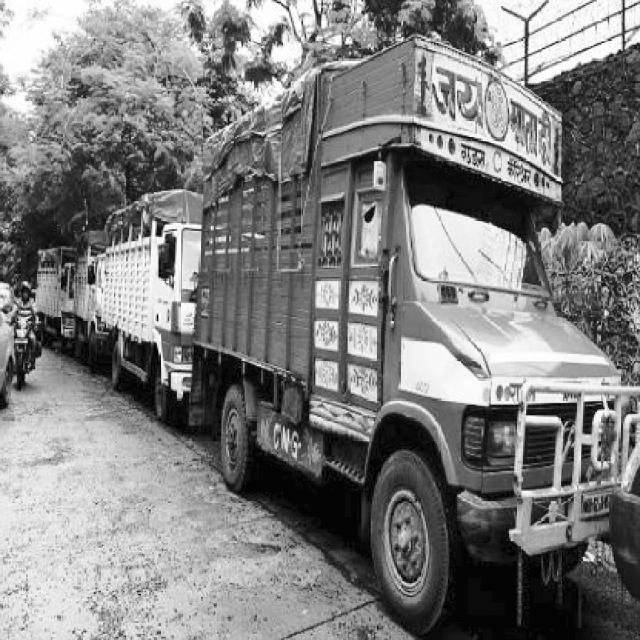HCV: (185, 42, 593, 536), (112, 180, 203, 382), (69, 240, 112, 359)
